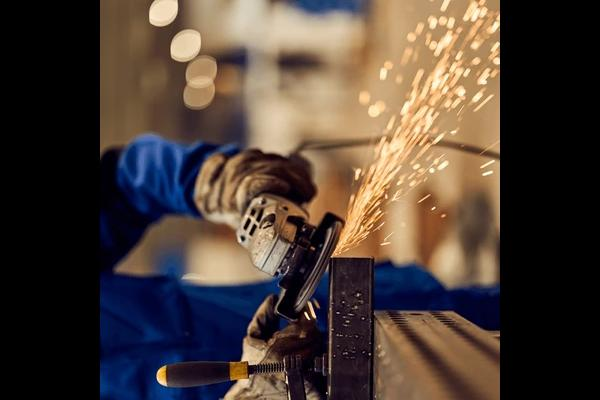controlled_fire: (322, 0, 494, 267)
